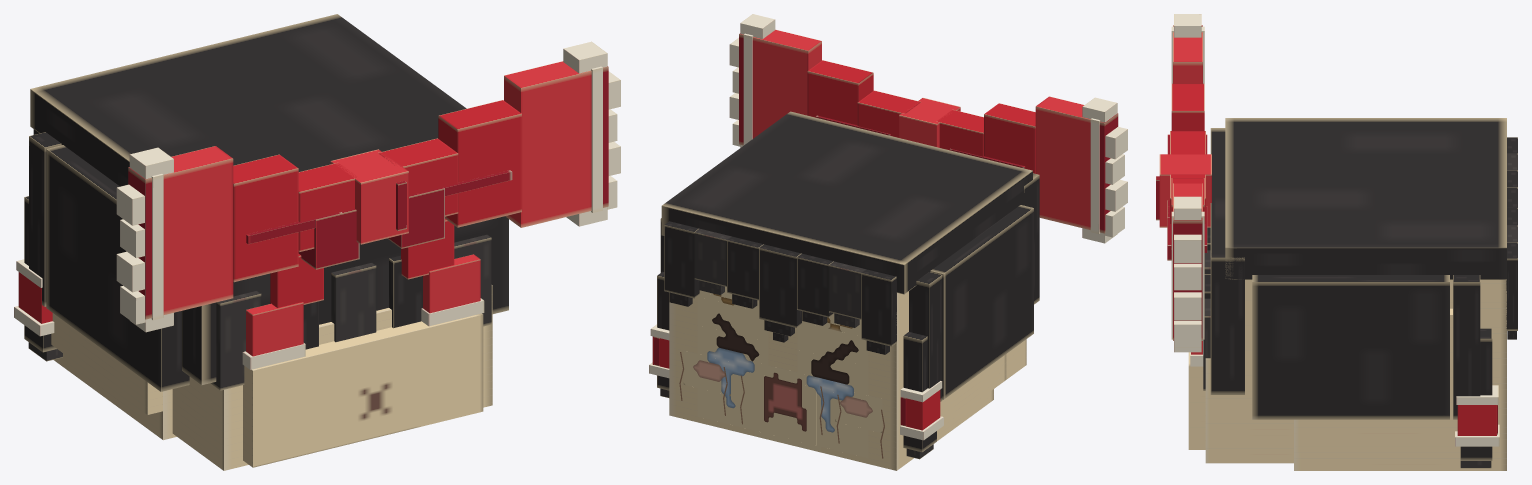
File: desiccation_reimu_3.obj
3 views of the same model, side by side, from view 1: azimuth 30°, elevation 25°; view 2: azimuth 150°, elevation 25°; view 3: azimuth 270°, elevation 25° (orthographic). The views are drawn at different scales.
Visible parts, largest first — view 1: desiccation_reimu_3; view 2: desiccation_reimu_3; view 3: desiccation_reimu_3.
Part boxes in pixels (x1,y1,x2,y2): desiccation_reimu_3: (14, 14, 620, 470); desiccation_reimu_3: (649, 14, 1127, 470); desiccation_reimu_3: (1156, 14, 1517, 470).
Bounding box in the file's own units: 16.28 × 11.03 × 12.1.
1 material, 1 textured.
